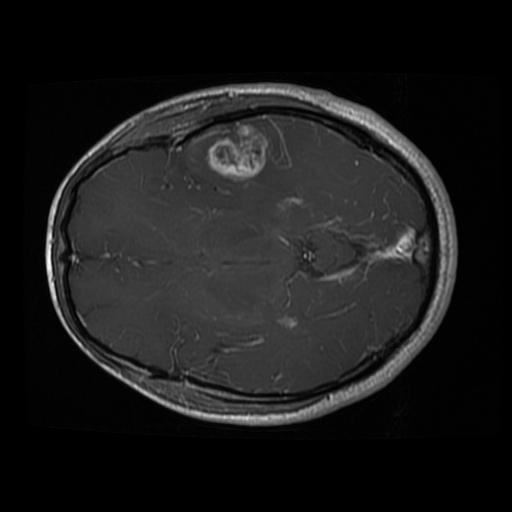glioma: (205, 122, 269, 183)
